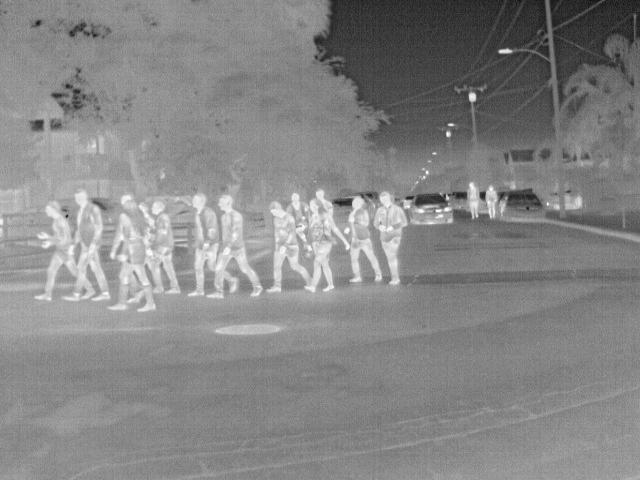car: (496, 189, 547, 224), (407, 193, 454, 227), (446, 189, 469, 210)
person: (206, 195, 267, 298), (107, 200, 158, 314), (62, 191, 113, 300), (302, 197, 352, 291), (35, 200, 82, 297), (266, 200, 311, 291), (370, 189, 408, 286), (187, 193, 223, 295), (344, 194, 381, 282), (147, 201, 181, 295), (285, 190, 306, 232), (466, 180, 481, 219), (313, 186, 332, 216), (486, 184, 499, 218)
